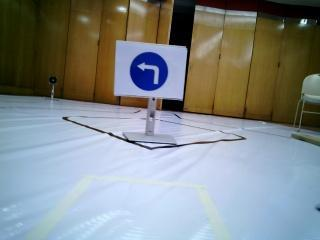left: (122, 45, 181, 93)
